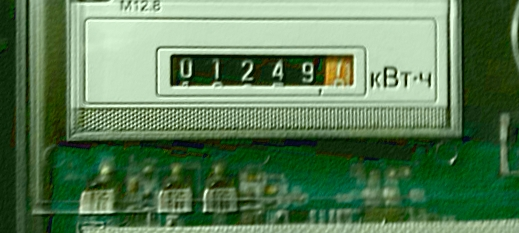0: (173, 54, 195, 82)
1: (205, 57, 223, 84)
2: (235, 59, 258, 87)
4: (268, 57, 289, 86)
7: (328, 56, 346, 82)
9: (297, 60, 317, 87)
screen: (143, 26, 383, 129)
